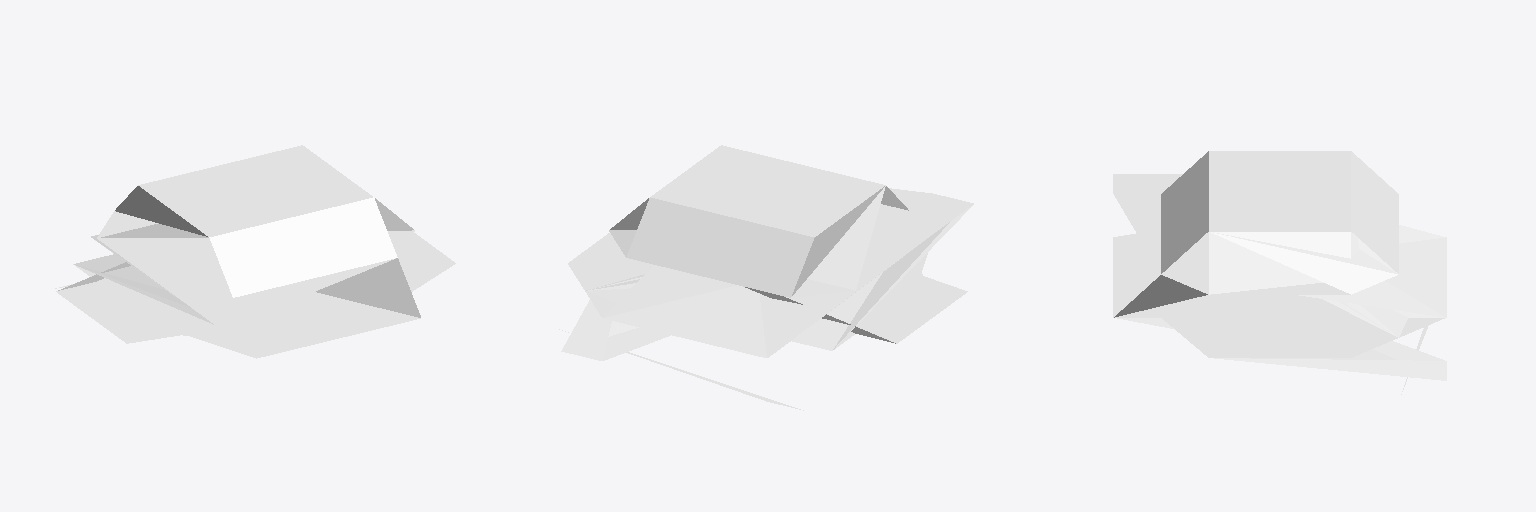
File: Character0_Idle1.obj
The picture shows the model from 3 angles: view 1: azimuth 30°, elevation 25°; view 2: azimuth 150°, elevation 25°; view 3: azimuth 270°, elevation 25°; orthographic projection.
Bounding box in the file's own units: 8 × 3 × 7.